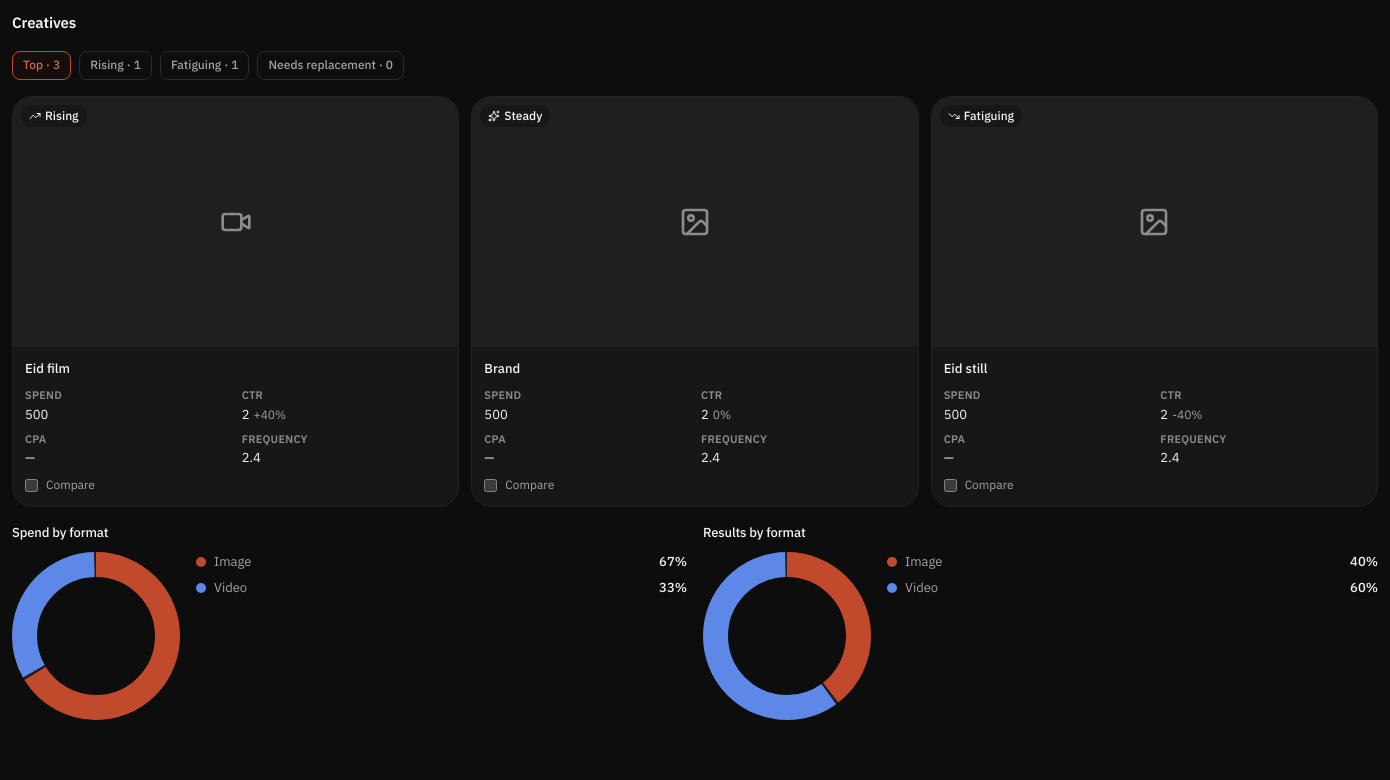
Scenario: CreativeIntelligence › shows a rising creative under Rising and a fatiguing one under Fatiguing, each with its state written
The image size is (1390, 780).
Step 1. Click the button "Rising · 1" → (116, 66), box [79,51,152,80]
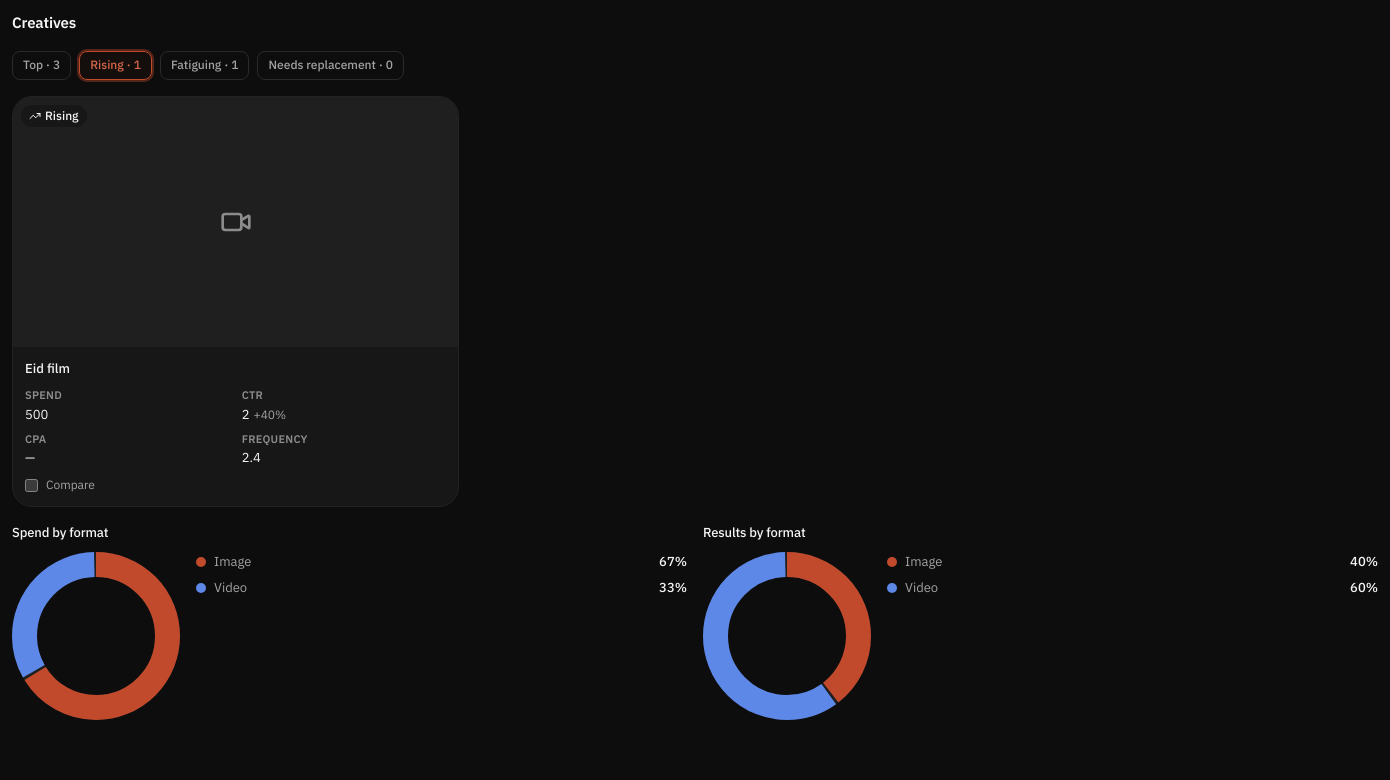
Check: the text "Eid film" is shown, box [25,359,70,378]
Check: the text "Eid still" is gone
Step 2. Click the button "Fatiguing · 1" → (205, 66), box [160,51,250,80]
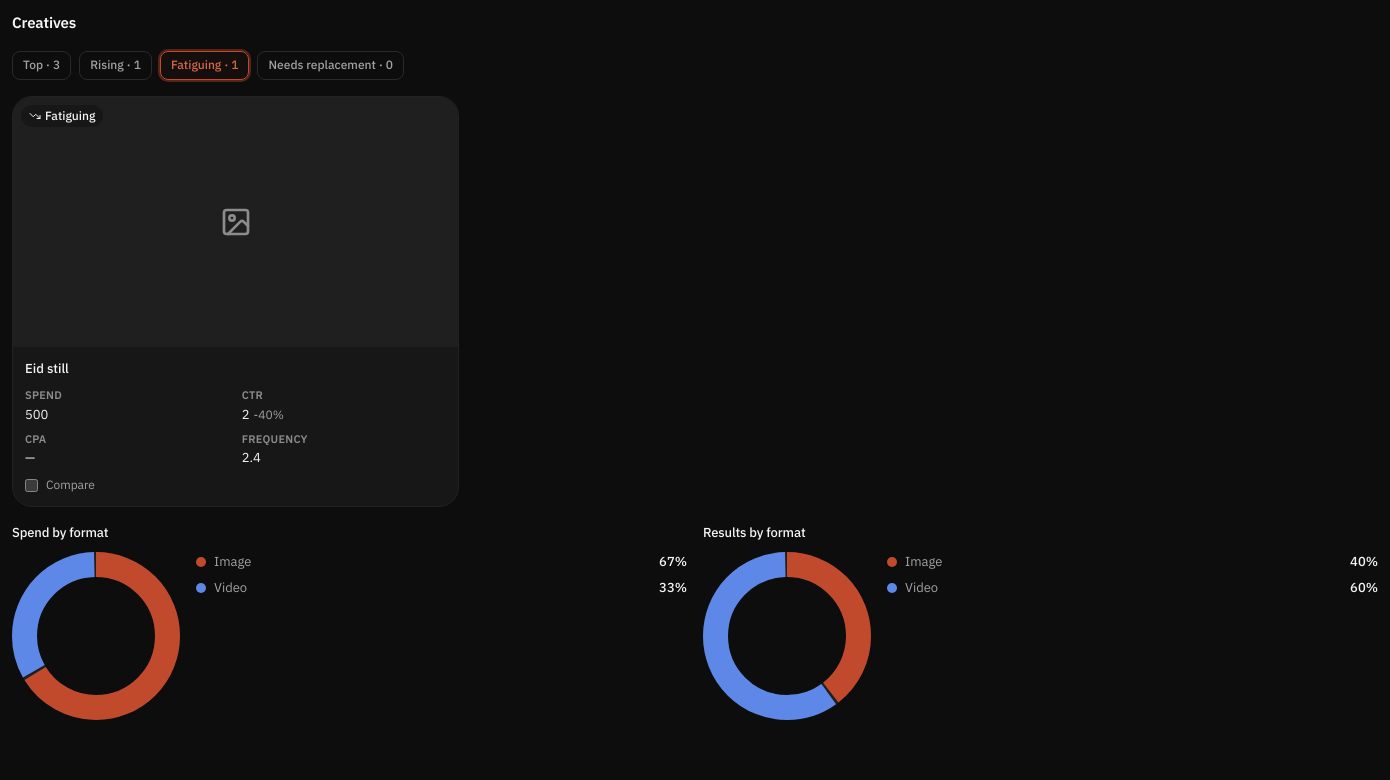
Check: the text "Eid still" is shown, box [25,359,69,378]
